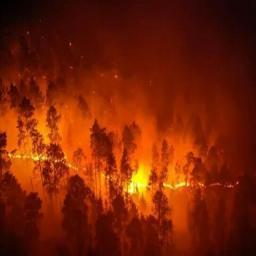Large fire: (0, 133, 255, 203)
